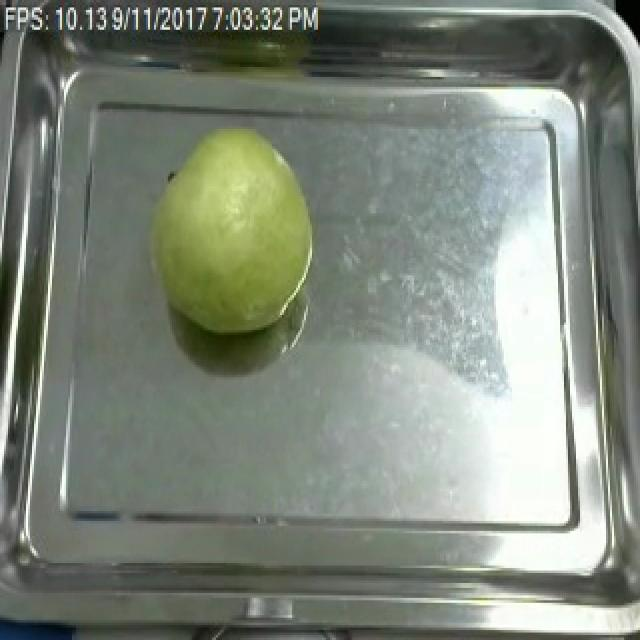Fruit: (140, 114, 320, 342)
